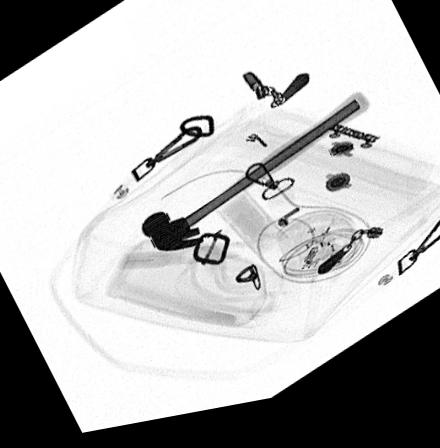Hammer: (140, 104, 369, 258)
